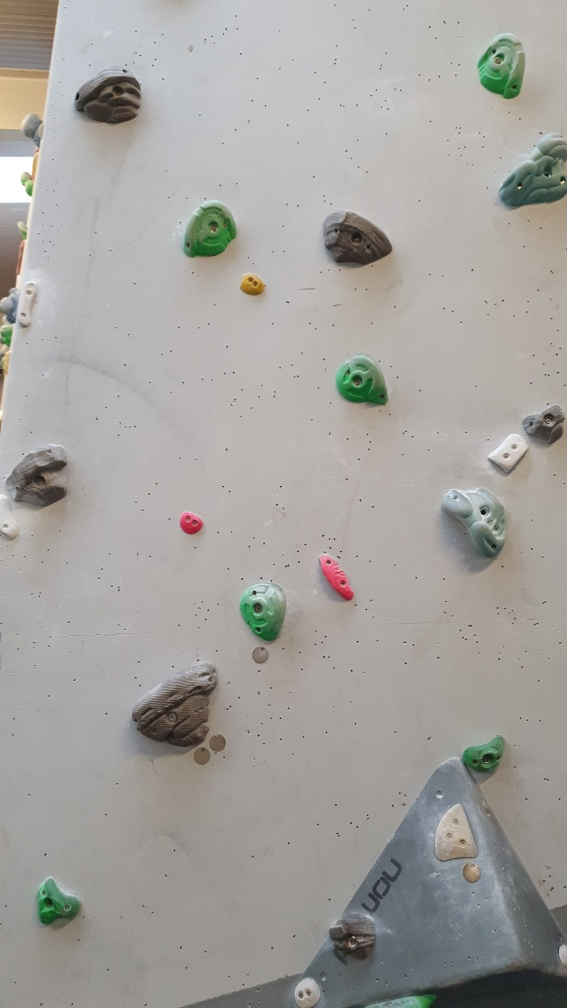Crimp: (312, 553, 355, 604), (484, 431, 527, 474), (15, 284, 41, 332)
Hand Start: (248, 640, 277, 670), (461, 863, 482, 885), (207, 731, 228, 751), (192, 745, 210, 766)
Jug: (129, 660, 219, 747), (497, 134, 567, 215), (446, 482, 512, 564), (71, 64, 146, 127), (321, 207, 394, 270), (472, 31, 531, 101), (7, 447, 73, 509), (180, 196, 240, 261), (334, 352, 395, 413), (241, 586, 291, 644), (459, 732, 507, 778)
Pinch: (176, 507, 206, 539)
